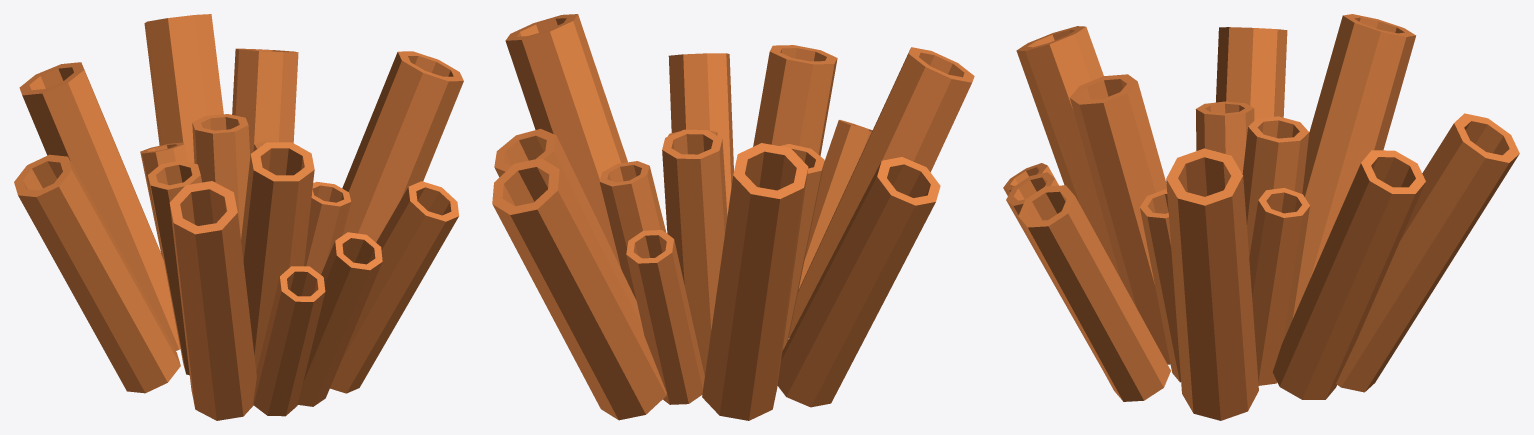
Rendered from TubeCoral_2.fbx.
3 views of the same model, side by side, from view 1: azimuth 30°, elevation 25°; view 2: azimuth 150°, elevation 25°; view 3: azimuth 270°, elevation 25° (orthographic). The views are drawn at different scales.
Visible parts, largest first — view 1: Cube; view 2: Cube; view 3: Cube.
Boxes of the visible parts, x1,y1,x2,y2 form: Cube: [14, 14, 463, 420]; Cube: [492, 14, 974, 420]; Cube: [1003, 14, 1519, 420].
Size of the model in its own units: 234 by 150 by 236.
